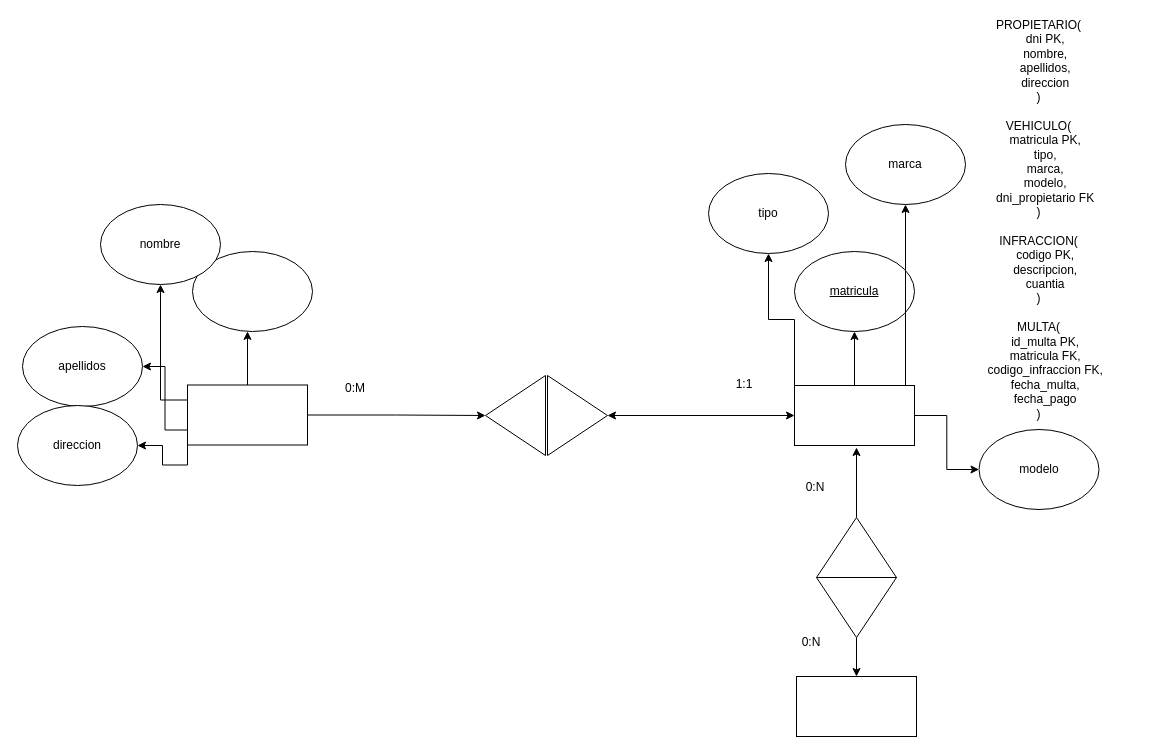
Some shapes in this 1149 by 754 pixel diagram are drawn without their labels. The centre of each missing label's shape, as x and y in pixels:
"dni" goes at [252,291].
"infracciónes" goes at [856,706].
"propietario" goes at [247,414].
"vehiculo" goes at [854,415].
